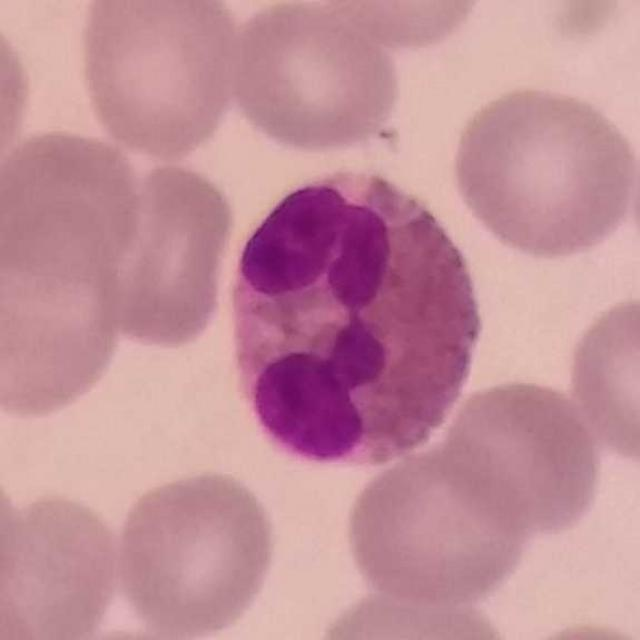Eosinophil: (221, 172, 489, 480)
RBC: (445, 79, 639, 262), (340, 435, 534, 609), (109, 464, 283, 640), (88, 156, 240, 354), (0, 202, 130, 425), (435, 373, 607, 541), (224, 1, 405, 158), (71, 0, 243, 163), (0, 122, 148, 292), (8, 486, 132, 640), (562, 290, 640, 471), (305, 582, 519, 639), (312, 0, 491, 52), (0, 4, 38, 196), (0, 450, 29, 620), (500, 615, 640, 640), (624, 104, 640, 290)
